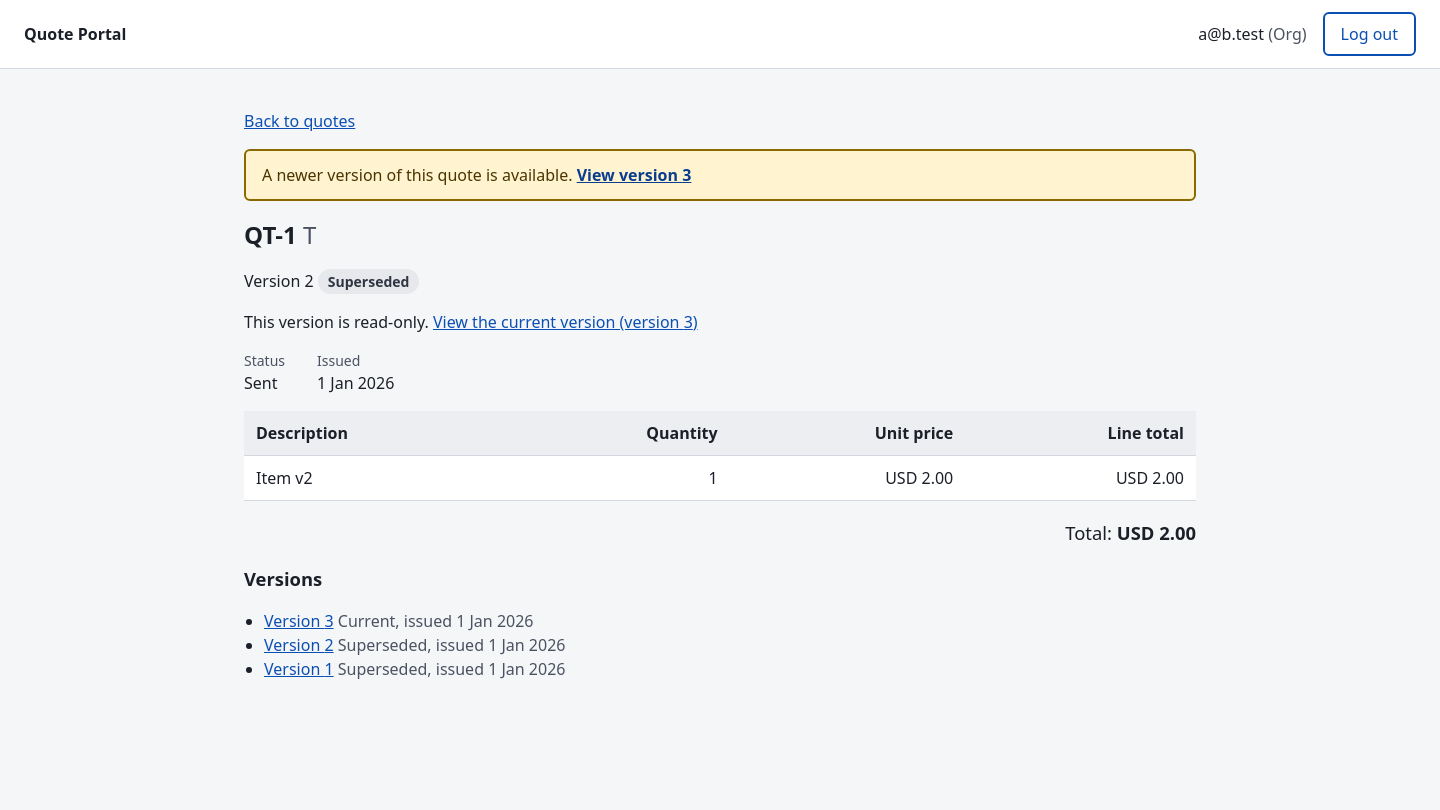
it: newer-version banner (FE-09) › opening the latest version removes the banner
expect the element with test id "quote-detail" is shown: met, box [244, 109, 1196, 681]
Click the link with test id "newer-version-link".
click(629, 175)  # box [577, 164, 691, 186]
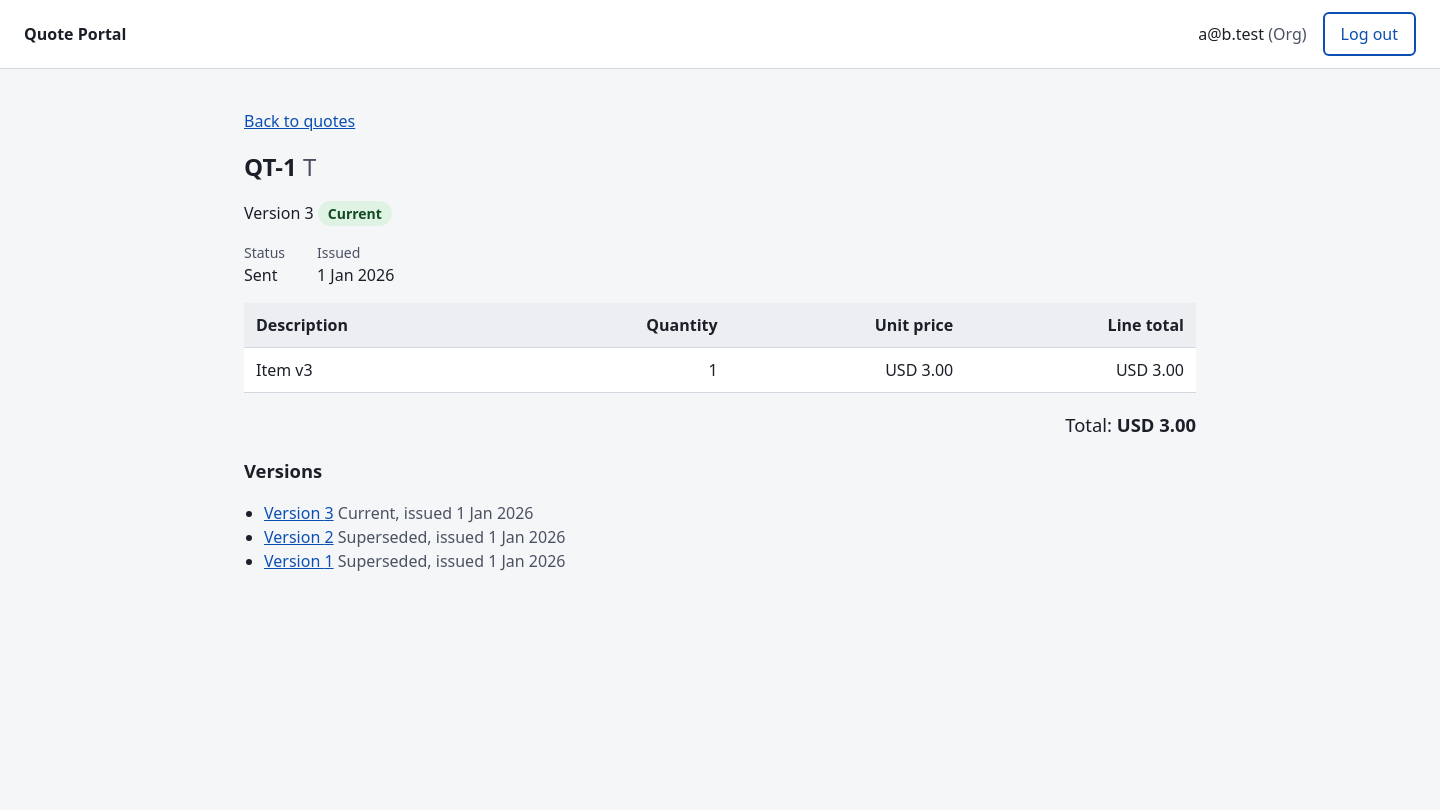
expect the text "Version 3" is shown: met, box [244, 202, 314, 224]
expect the message with test id "newer-version-banner" is gone: met
expect the text with test id "version-label" reads "Current": met, box [328, 204, 382, 223]
